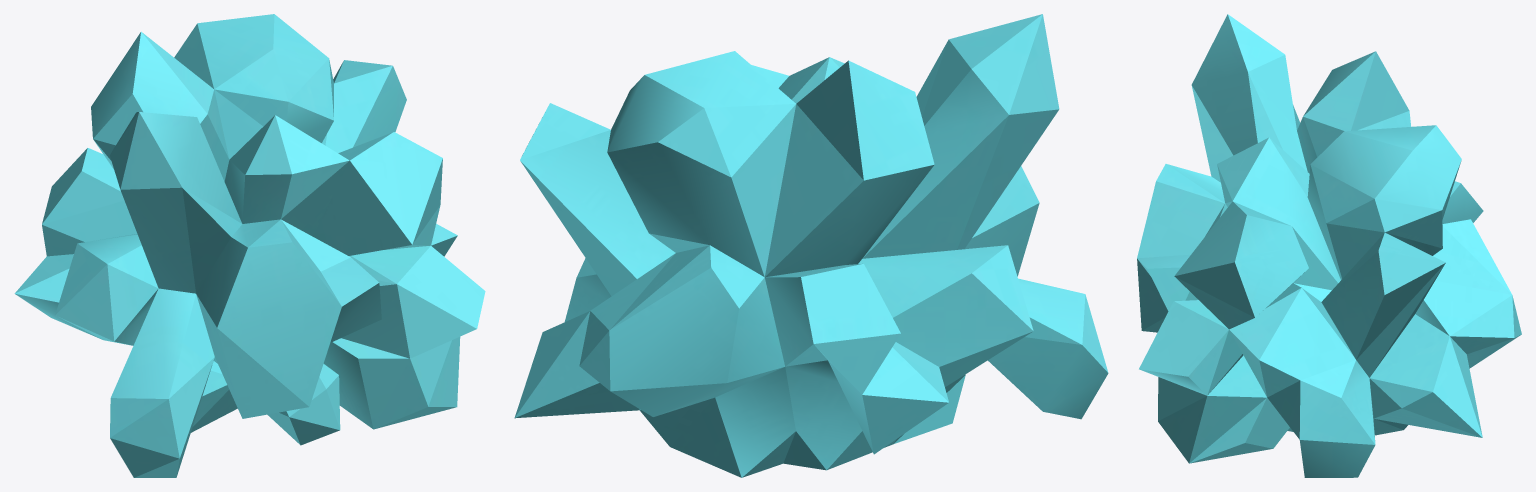
The model's file is e_fels.glb.
The picture shows the model from 3 angles, left to right: view 1: azimuth 30°, elevation 25°; view 2: azimuth 150°, elevation 25°; view 3: azimuth 270°, elevation 25°; orthographic projection. The views are drawn at different scales.
Size of the model in its own units: 1.79 by 1.52 by 1.66.
1 material, 1 textured.
